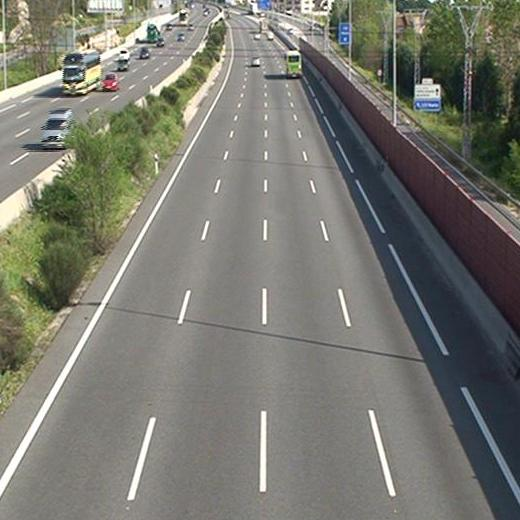bus: (284, 50, 301, 77)
car: (251, 56, 261, 68)
